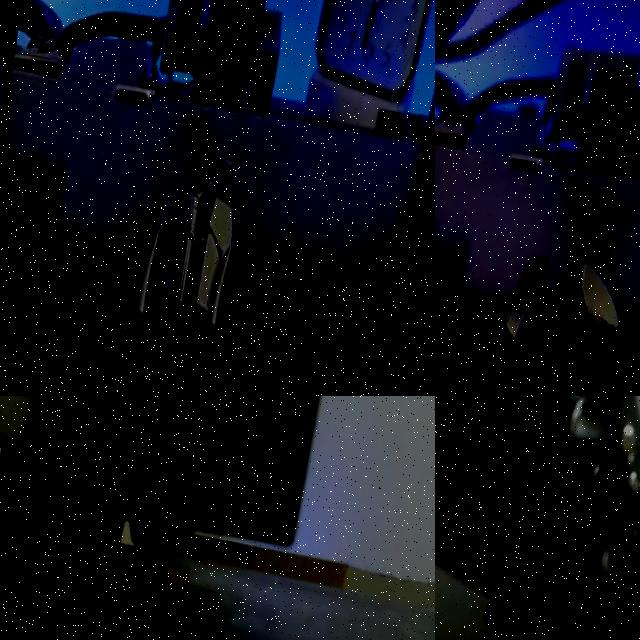spaghetti: (90, 527, 188, 602)
